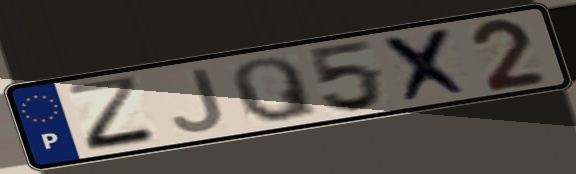2: (468, 15, 553, 95)
5: (301, 37, 391, 114)
J: (168, 65, 228, 134)
Q: (228, 55, 323, 125)
X: (378, 24, 479, 106)
Z: (62, 73, 164, 154)
